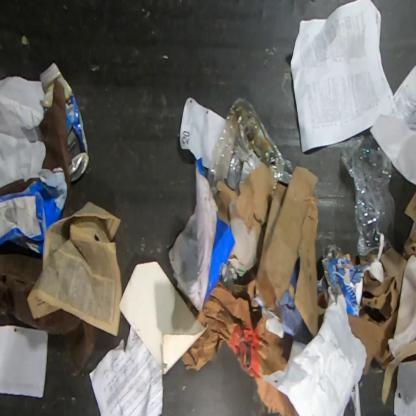cardboard: (213, 163, 319, 346), (0, 168, 68, 255), (348, 308, 399, 376)
metal: (40, 61, 90, 183)
rigid_plastic: (206, 98, 294, 198)
soft_plastic: (342, 135, 396, 257)
